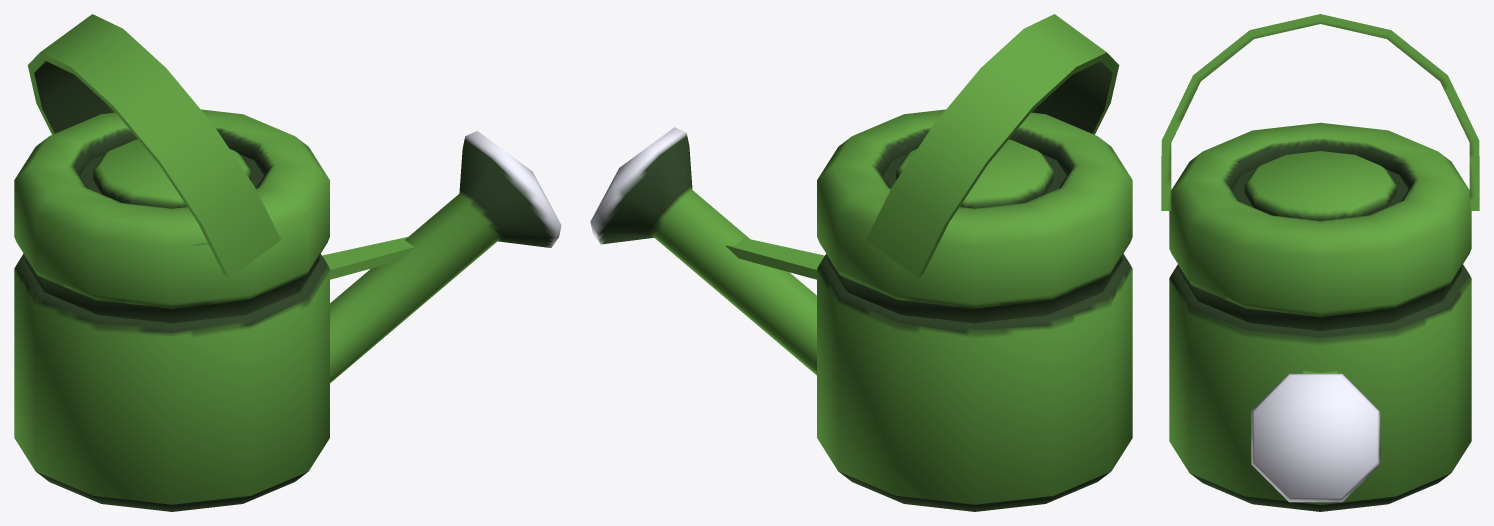
File: farmminigame2.fbx
3 views of the same model, side by side, from view 1: azimuth 30°, elevation 25°; view 2: azimuth 150°, elevation 25°; view 3: azimuth 270°, elevation 25° (orthographic). The views are drawn at different scales.
Parts seen in each view (by area): view 1: Cylinder.002; view 2: Cylinder.002; view 3: Cylinder.002.
Part boxes in pixels (box(x1,y1,x2,y2)): Cylinder.002: box(14, 14, 561, 511); Cylinder.002: box(590, 14, 1132, 511); Cylinder.002: box(1161, 14, 1479, 511).
Size of the model in its own units: 186 by 152 by 105.
Materials: 1 (1 with a texture image).
